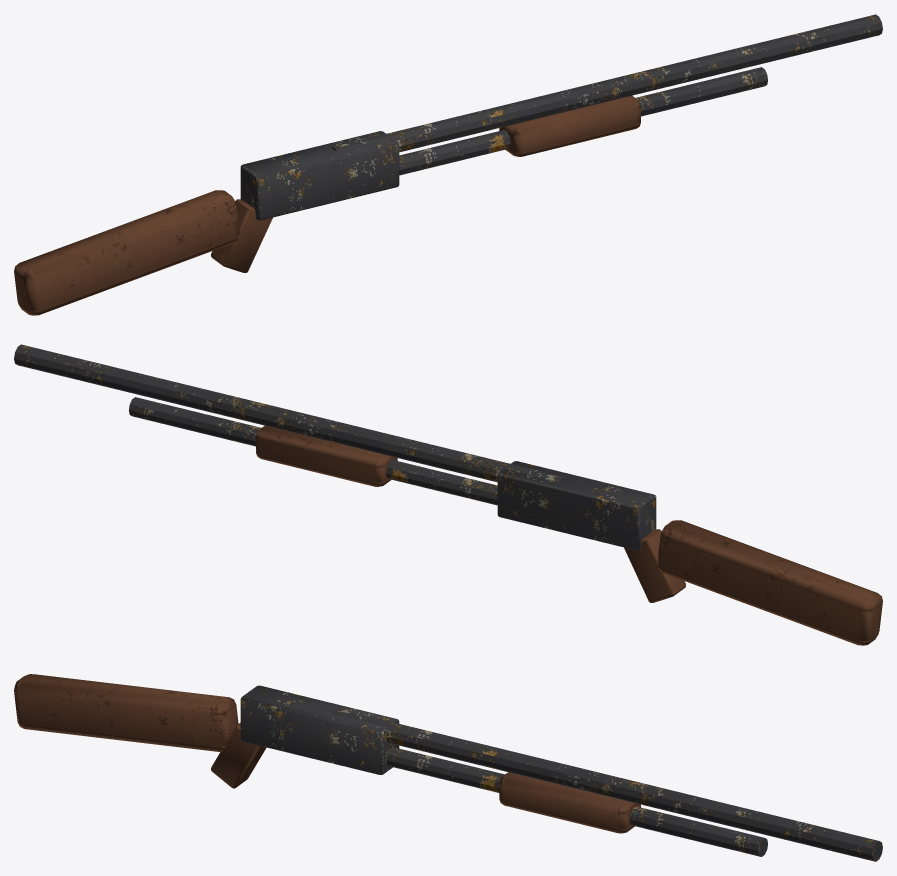
File: held_weapon_mp133.glb
The picture shows the model from 3 angles, top to bottom: view 1: azimuth 30°, elevation 25°; view 2: azimuth 150°, elevation 25°; view 3: azimuth 330°, elevation 25°; orthographic projection.
Parts seen in each view (by area): view 1: box.003, cyl, box.001, cyl.001, box, box.002; view 2: box.003, cyl, box.001, cyl.001, box, box.002; view 3: box.003, cyl, box.001, cyl.001, box, box.002.
Boxes of the visible parts, x1,y1,x2,y2 form: box.003: [14, 190, 239, 315]; cyl: [331, 14, 882, 152]; box.001: [240, 131, 399, 220]; cyl.001: [399, 67, 767, 175]; box: [499, 95, 640, 156]; box.002: [211, 199, 272, 272]; box.003: [657, 520, 882, 645]; cyl: [14, 344, 565, 482]; box.001: [497, 461, 656, 550]; cyl.001: [129, 397, 497, 505]; box: [256, 425, 397, 486]; box.002: [624, 529, 685, 602]; box.003: [14, 674, 238, 751]; cyl: [331, 708, 882, 861]; box.001: [240, 685, 399, 774]; cyl.001: [386, 747, 767, 856]; box: [499, 772, 640, 833]; box.002: [211, 722, 266, 788].
Bounding box in the file's own units: 1.2 × 0.1306 × 0.048.
Materials: 2 (2 with a texture image).
